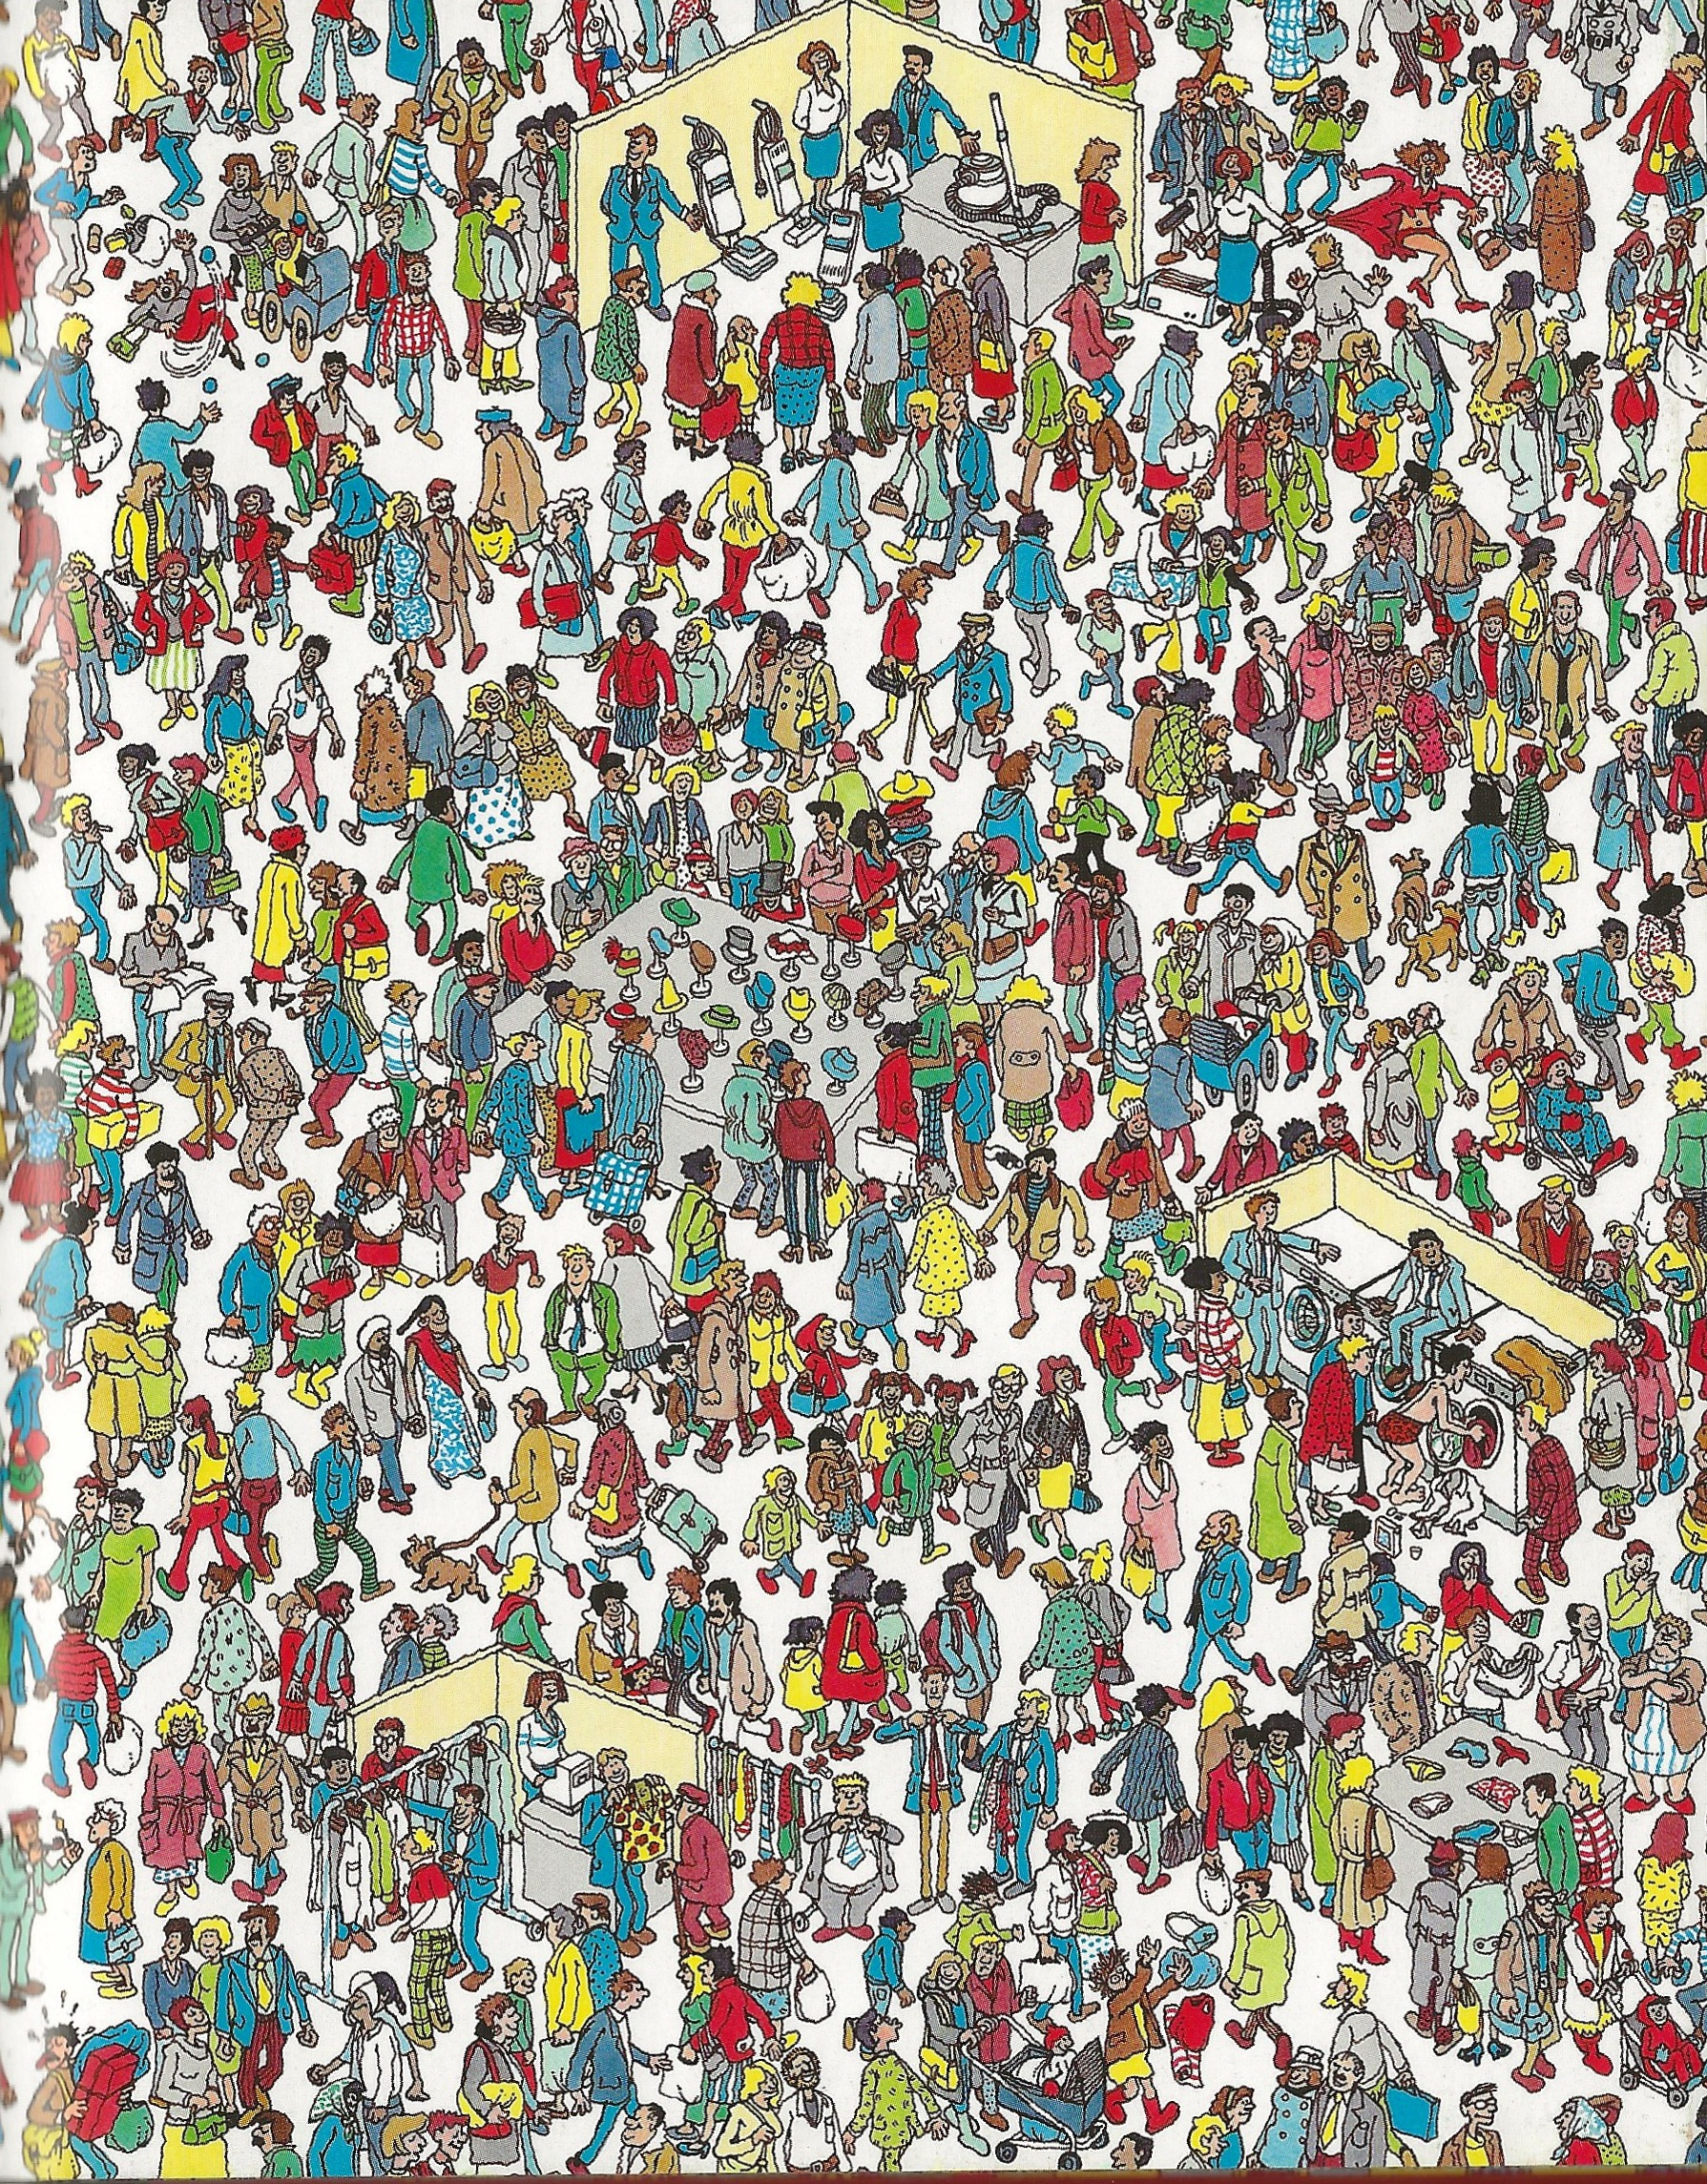Wizard Whitebeard: (590, 30, 674, 117)
